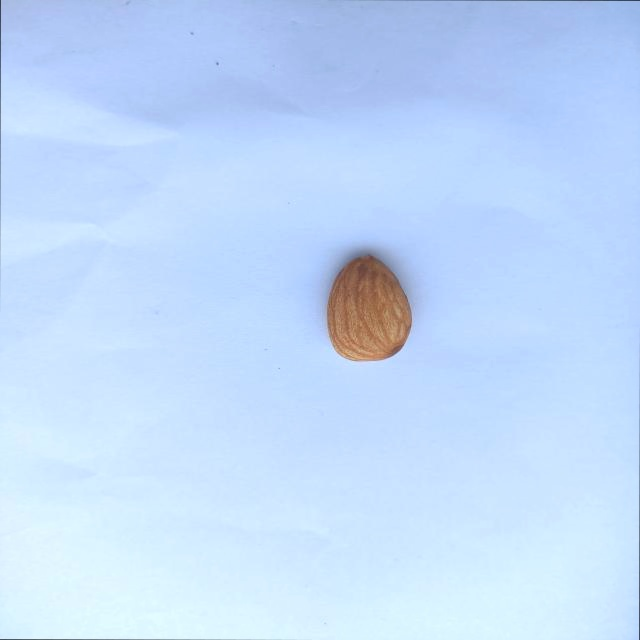grade1: (317, 247, 418, 368)
